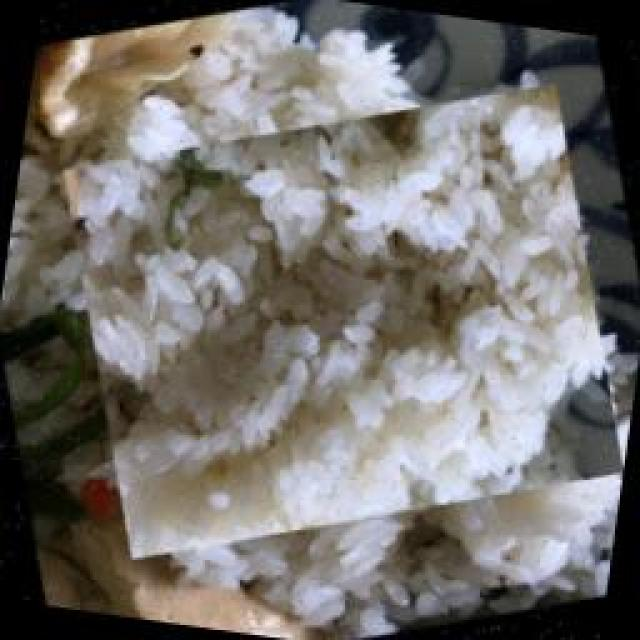Wet Waste: (22, 2, 640, 640)
